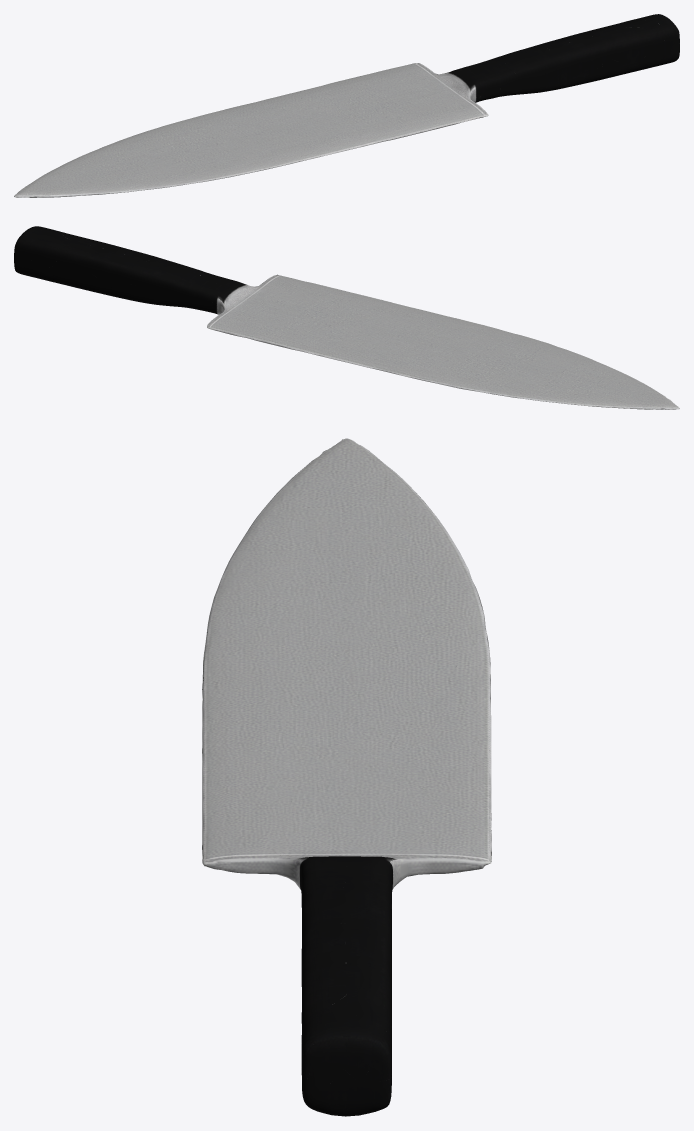
The model's file is ChefKnife.fbx.
The picture shows the model from 3 angles, top to bottom: view 1: azimuth 30°, elevation 25°; view 2: azimuth 150°, elevation 25°; view 3: azimuth 270°, elevation 25°; orthographic projection. The views are drawn at different scales.
Visible parts, largest first — view 1: Mesh_0; view 2: Mesh_0; view 3: Mesh_0.
Part boxes in pixels (box(x1,y1,x2,y2)): Mesh_0: box(14, 14, 679, 197); Mesh_0: box(14, 226, 679, 409); Mesh_0: box(202, 438, 491, 1116).
Bounding box in the file's own units: 190 × 11.62 × 36.27.
Materials: 1 (1 with a texture image).
